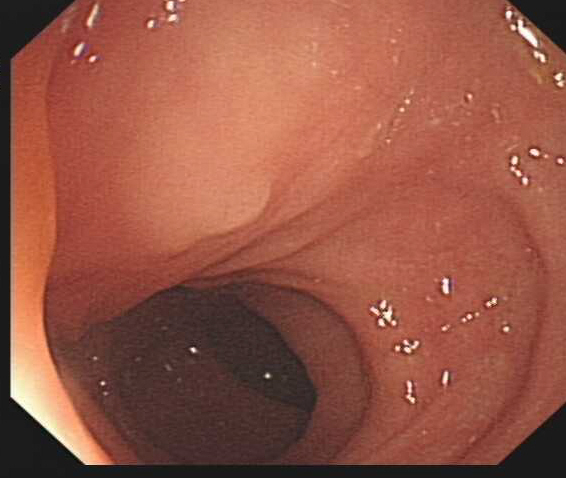others: (183, 183, 276, 240)
